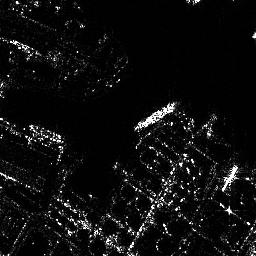ship: (131, 100, 178, 131), (220, 164, 240, 192)
